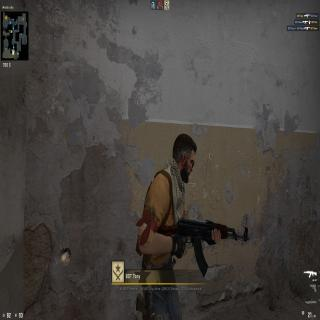T-Head: (171, 128, 197, 190)
